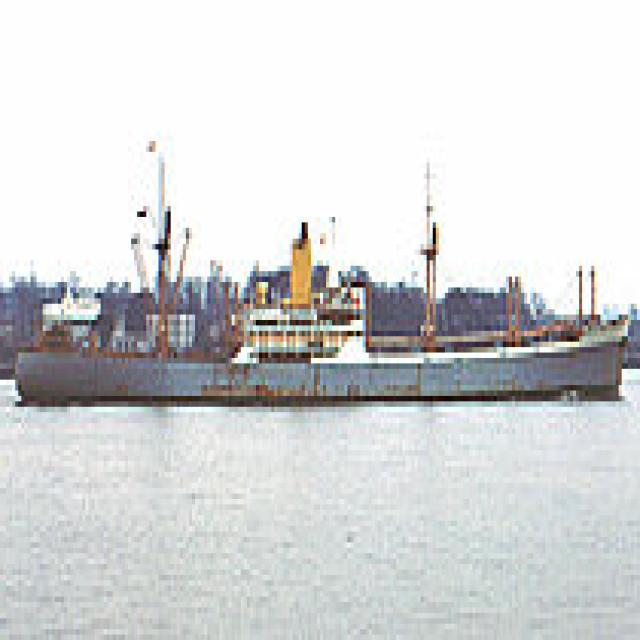Cargo: (18, 136, 634, 402)
